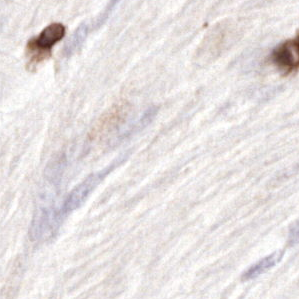Lymphocyte: (34, 22, 69, 47)
